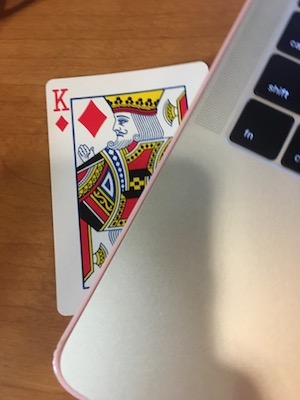KingOfDiamonds: (39, 60, 215, 320)
